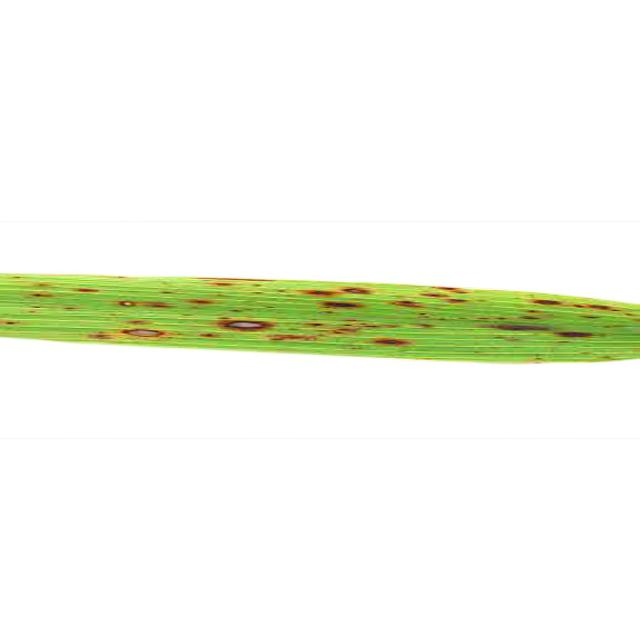Brown spot: (0, 262, 640, 378)
